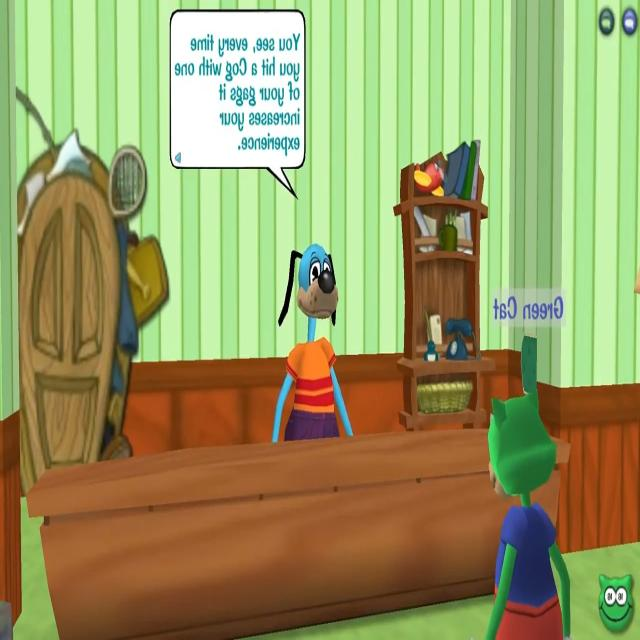npc: (276, 236, 358, 440)
